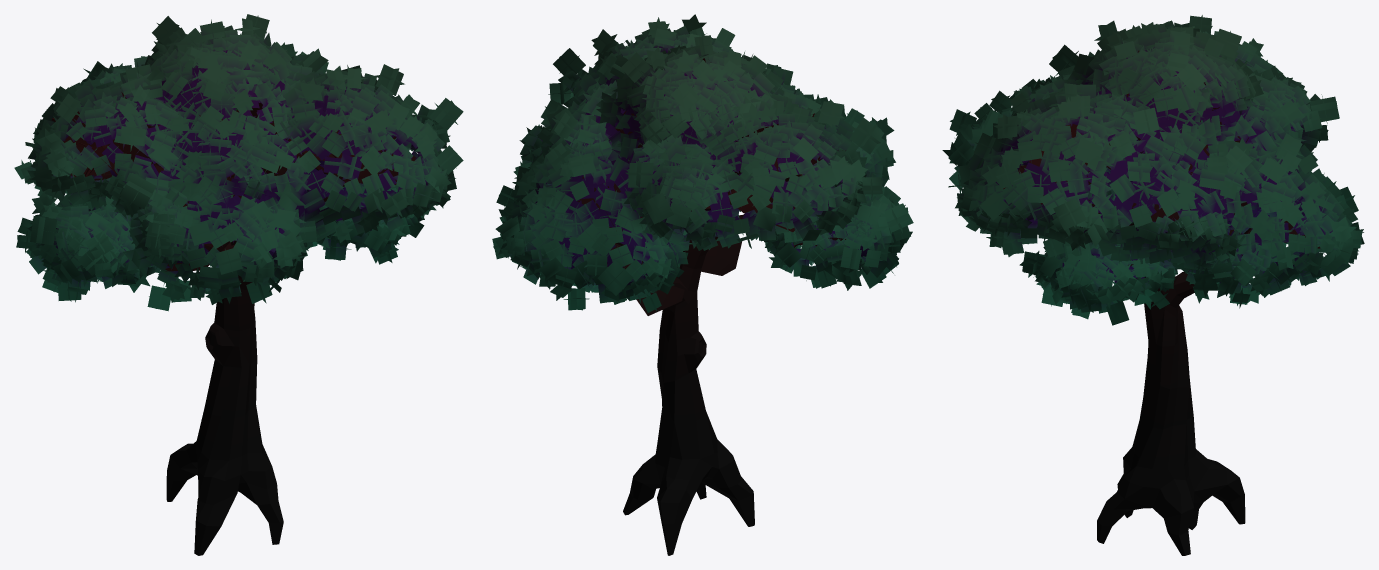
The model's file is SM_Env_Tree_Forest_02.gltf.
3 renders of one model, left to right at view 1: azimuth 30°, elevation 25°; view 2: azimuth 150°, elevation 25°; view 3: azimuth 270°, elevation 25°, orthographic. The views are drawn at different scales.
Visible parts, largest first — view 1: SM_Env_Tree_Forest_02_LOD0, SM_Env_Tree_Forest_02_Branches_LOD0; view 2: SM_Env_Tree_Forest_02_LOD0, SM_Env_Tree_Forest_02_Branches_LOD0; view 3: SM_Env_Tree_Forest_02_LOD0, SM_Env_Tree_Forest_02_Branches_LOD0.
Part boxes in pixels (<box>): SM_Env_Tree_Forest_02_LOD0: <box>14,14,463,555</box>; SM_Env_Tree_Forest_02_Branches_LOD0: <box>63,88,415,282</box>; SM_Env_Tree_Forest_02_LOD0: <box>492,14,913,555</box>; SM_Env_Tree_Forest_02_Branches_LOD0: <box>577,58,845,315</box>; SM_Env_Tree_Forest_02_LOD0: <box>942,15,1364,555</box>; SM_Env_Tree_Forest_02_Branches_LOD0: <box>1003,50,1320,278</box>.
Size of what is drawn, in the model's own units: 10.43 by 12.53 by 9.5.
Materials: 1 (1 with a texture image).
